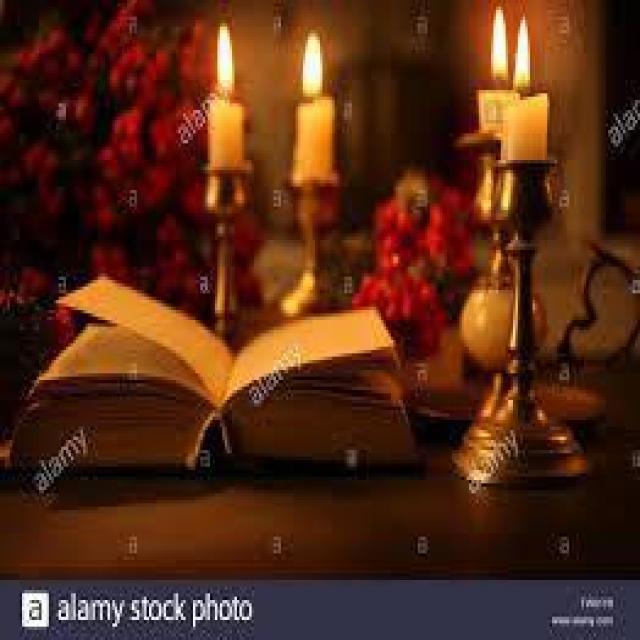fire: (484, 0, 540, 93), (202, 16, 249, 100), (294, 21, 332, 102)
